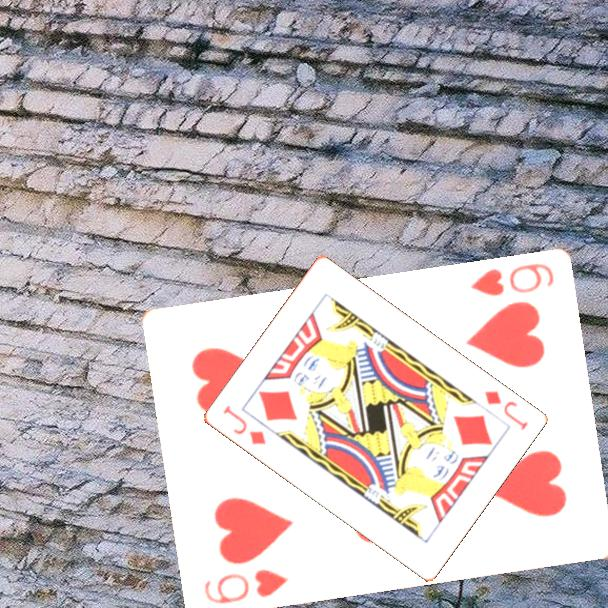d11: (480, 387, 531, 433), (219, 402, 269, 448)
h06: (200, 566, 291, 607), (467, 260, 557, 300)
